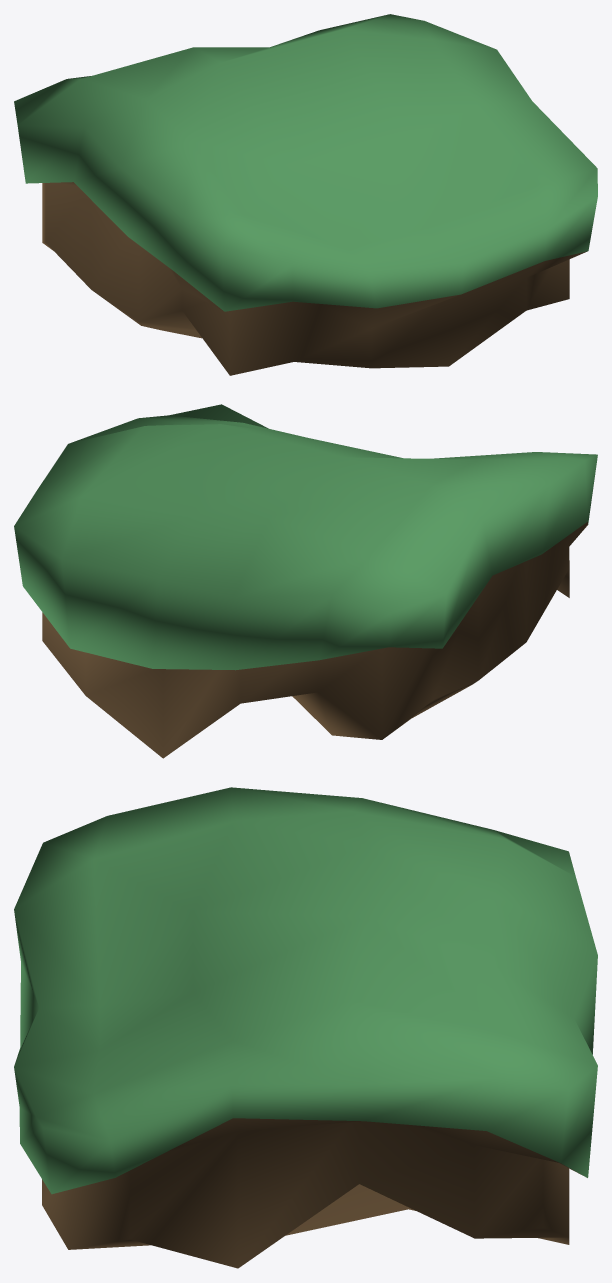
File: island03-2.fbx
The picture shows the model from 3 angles, top to bottom: view 1: azimuth 30°, elevation 25°; view 2: azimuth 150°, elevation 25°; view 3: azimuth 270°, elevation 25°; orthographic projection. The views are drawn at different scales.
Parts seen in each view (by area): view 1: island03-2; view 2: island03-2; view 3: island03-2.
Part boxes in pixels (x1,y1,x2,y2): island03-2: [14, 14, 597, 375]; island03-2: [14, 404, 597, 758]; island03-2: [14, 787, 597, 1268].
Bounding box in the file's own units: 5542 × 3426 × 5163.
